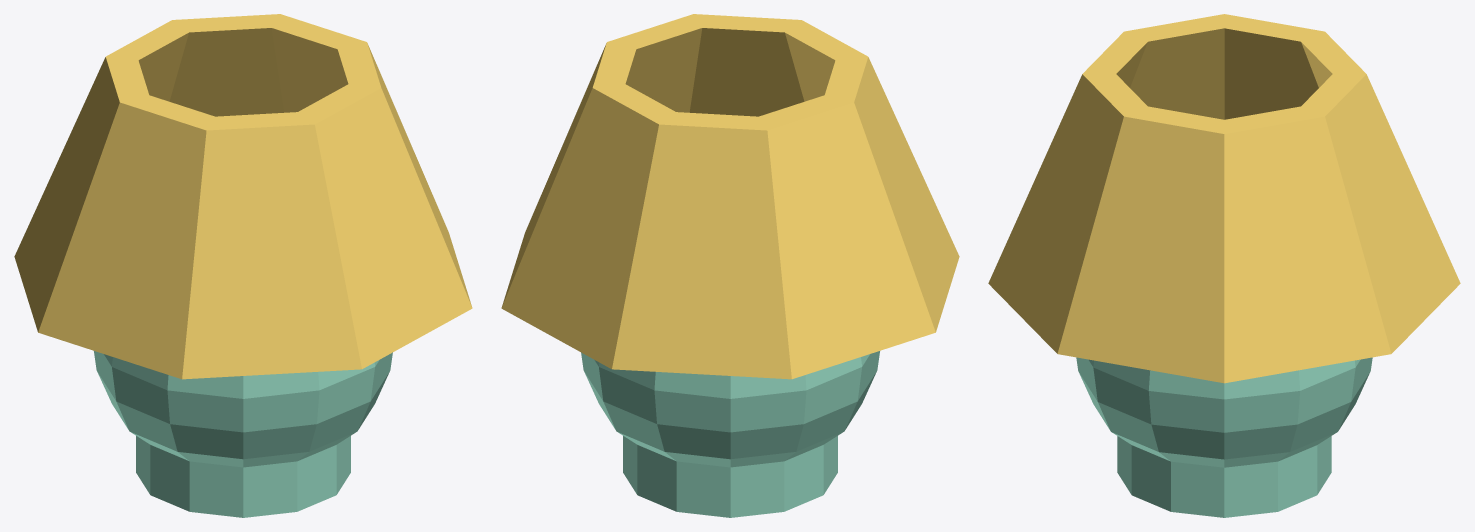
Rendered from desktopLamp.fbx.
3 views of the same model, side by side, from view 1: azimuth 30°, elevation 25°; view 2: azimuth 150°, elevation 25°; view 3: azimuth 270°, elevation 25° (orthographic).
Parts seen in each view (by area): view 1: desktopLamp; view 2: desktopLamp; view 3: desktopLamp.
Part boxes in pixels (x1=…): desktopLamp: x1=14, y1=14, x2=472, y2=517; desktopLamp: x1=501, y1=14, x2=959, y2=517; desktopLamp: x1=988, y1=14, x2=1460, y2=517.
Bounding box in the file's own units: 46.8 × 43.57 × 46.8.
